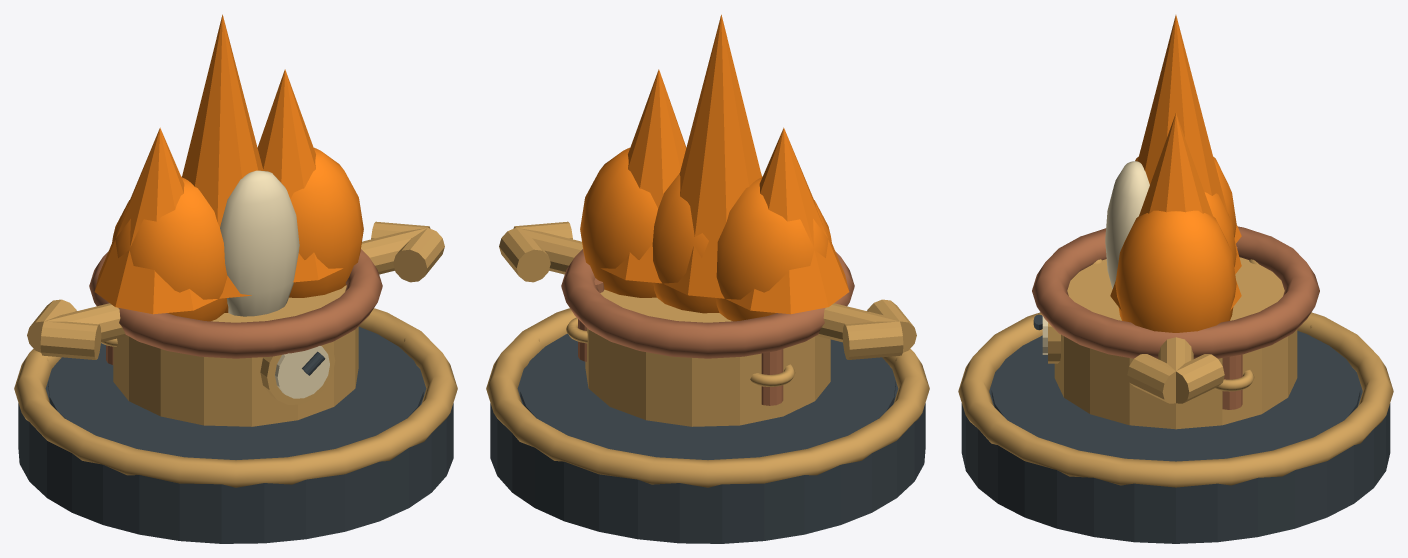
The model's file is range.glb.
The picture shows the model from 3 angles, left to right: view 1: azimuth 30°, elevation 25°; view 2: azimuth 150°, elevation 25°; view 3: azimuth 270°, elevation 25°; orthographic projection.
Visible parts, largest first — view 1: SM_UpgradeRange; view 2: SM_UpgradeRange; view 3: SM_UpgradeRange.
Part boxes in pixels (x1,y1,x2,y2): SM_UpgradeRange: (14, 14, 457, 543); SM_UpgradeRange: (486, 14, 929, 543); SM_UpgradeRange: (958, 15, 1393, 543).
Size of the model in its own units: 0.7702 by 0.803 by 0.732.
